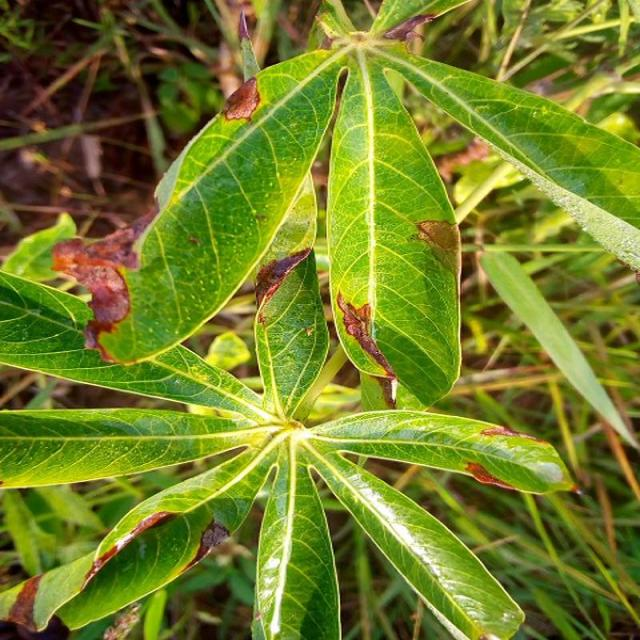cassava leaf: (0, 1, 638, 637), (90, 44, 345, 366), (325, 45, 462, 408)
